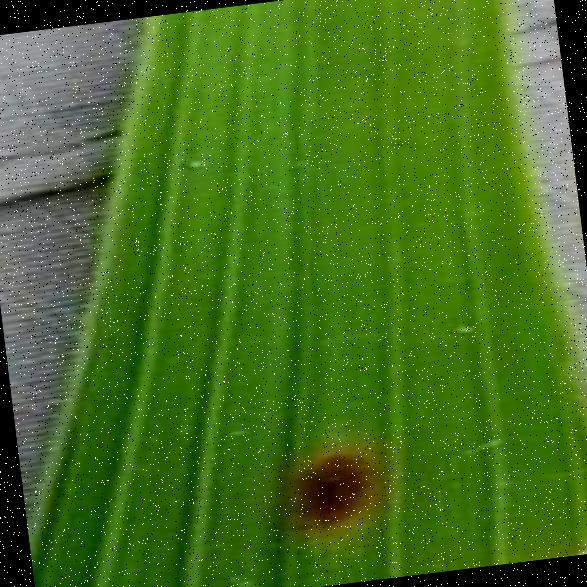Brown_Spot: (268, 422, 404, 569)
